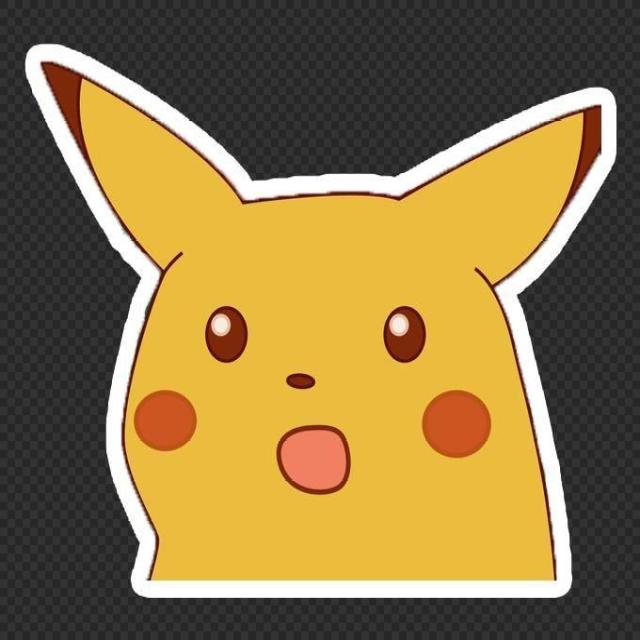pikachu: (30, 61, 603, 600)
